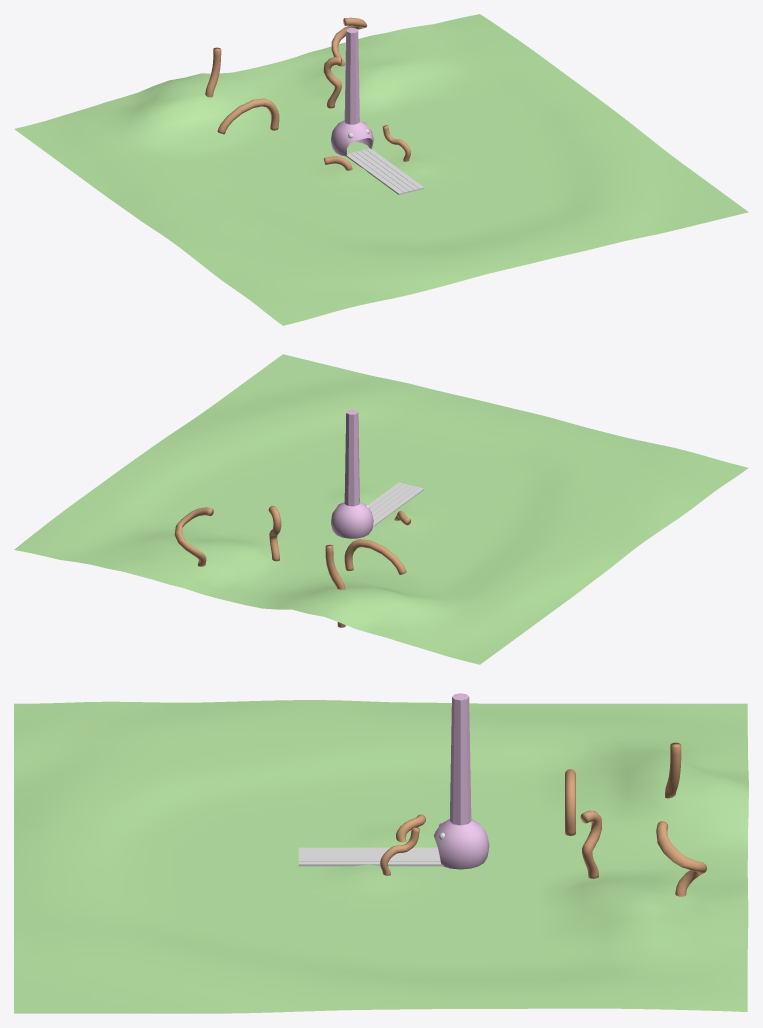
The picture shows the model from 3 angles, top to bottom: view 1: azimuth 30°, elevation 25°; view 2: azimuth 150°, elevation 25°; view 3: azimuth 270°, elevation 25°; orthographic projection. The views are drawn at different scales.
Visible parts, largest first — view 1: pPlane2, pCube2, pCube1, pCylinder8; view 2: pPlane2, pCube2, pCube1, pCylinder8, pCylinder7; view 3: pPlane2, pCube2, pCube1, pCylinder7, pCylinder10, pCylinder8, pCylinder9, pCylinder1.
Part boxes in pixels (bbox=[...]): pPlane2: bbox=[14, 14, 748, 325]; pCube2: bbox=[331, 28, 373, 156]; pCube1: bbox=[346, 148, 424, 194]; pCylinder8: bbox=[217, 98, 279, 134]; pPlane2: bbox=[14, 354, 748, 664]; pCube2: bbox=[331, 409, 373, 538]; pCube1: bbox=[368, 482, 424, 527]; pCylinder8: bbox=[344, 539, 406, 574]; pCylinder7: bbox=[174, 507, 213, 566]; pPlane2: bbox=[14, 700, 748, 1013]; pCube2: bbox=[433, 693, 489, 869]; pCube1: bbox=[298, 847, 443, 866]; pCylinder7: bbox=[656, 821, 706, 896]; pCylinder10: bbox=[580, 810, 601, 878]; pCylinder8: bbox=[565, 769, 575, 835]; pCylinder9: bbox=[665, 742, 681, 798]; pCylinder1: bbox=[380, 826, 419, 875].
Bounding box in the file's own units: 366 × 106 × 366.
